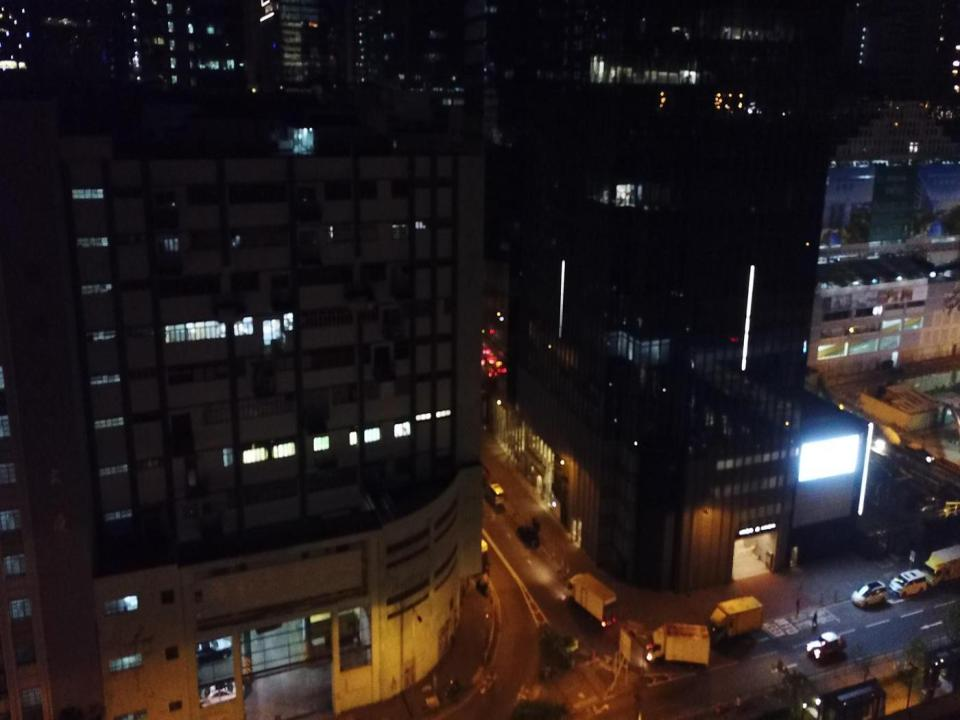car: (201, 682, 245, 709), (806, 631, 847, 658), (192, 636, 233, 661), (852, 580, 886, 609)
truck: (646, 621, 711, 669), (567, 572, 617, 628), (711, 596, 765, 641), (925, 544, 960, 588)
van: (889, 569, 927, 595), (489, 483, 504, 507)
